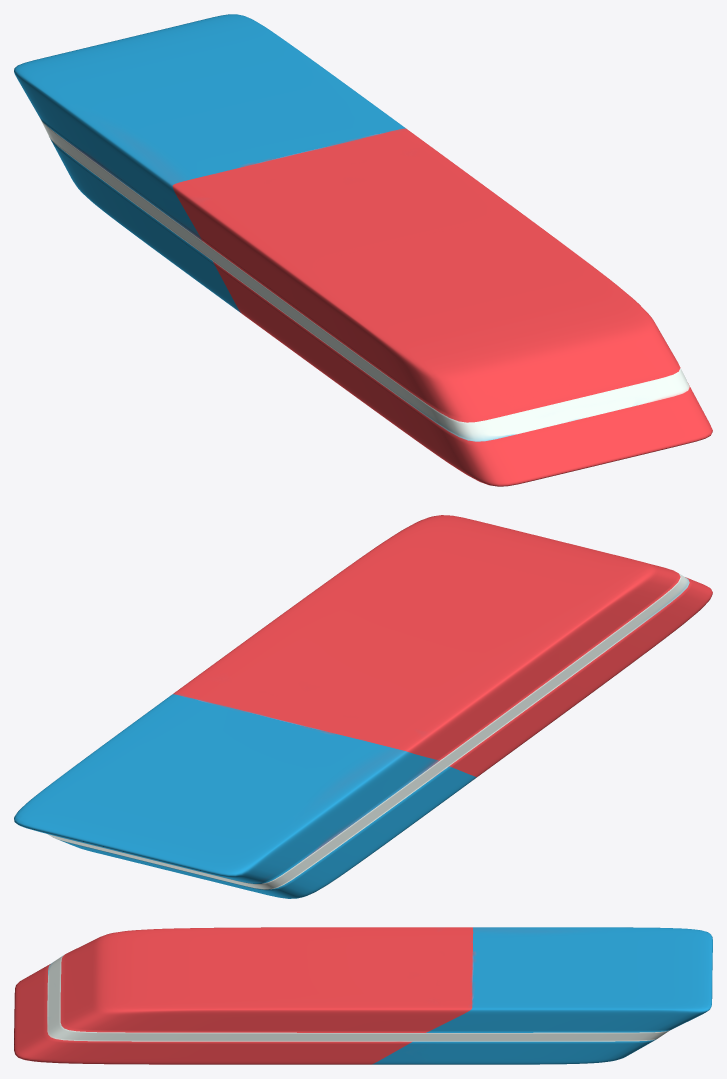
File: eraser.fbx
3 views of the same model, one above another, from view 1: azimuth 30°, elevation 25°; view 2: azimuth 150°, elevation 25°; view 3: azimuth 270°, elevation 25° (orthographic). The views are drawn at different scales.
Visible parts, largest first — view 1: Cube; view 2: Cube; view 3: Cube.
Boxes of the visible parts, <box> form: Cube: <box>14,14,712,486</box>; Cube: <box>14,515,712,898</box>; Cube: <box>14,927,712,1064</box>.
Size of the model in its own units: 63.94 by 20.46 by 228.
Materials: 1 (1 with a texture image).
